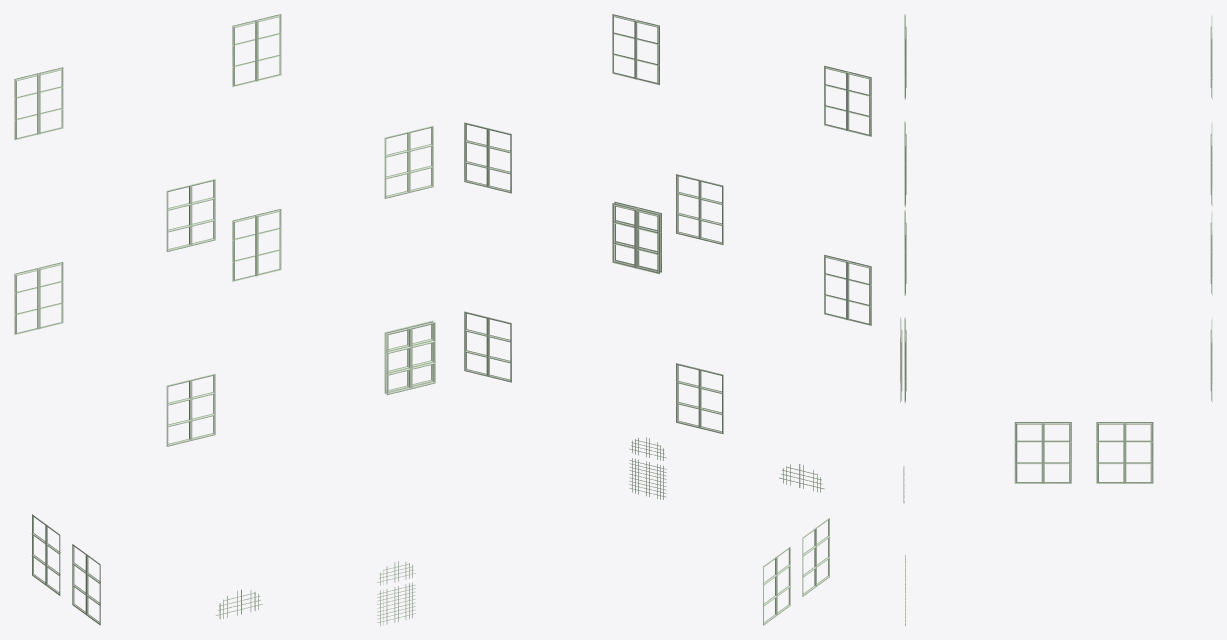
File: FairyTale121.gltf
3 views of the same model, side by side, from view 1: azimuth 30°, elevation 25°; view 2: azimuth 150°, elevation 25°; view 3: azimuth 270°, elevation 25° (orthographic). The views are drawn at different scales.
Visible parts, largest first — view 1: HouseLG04_Mullions_Wood; view 2: HouseLG04_Mullions_Wood; view 3: HouseLG04_Mullions_Wood.
Boxes of the visible parts, bbox=[...] form: HouseLG04_Mullions_Wood: bbox=[14, 14, 435, 625]; HouseLG04_Mullions_Wood: bbox=[464, 14, 871, 625]; HouseLG04_Mullions_Wood: bbox=[900, 14, 1212, 625].
Bounding box in the file's own units: 8.82 × 14.75 × 8.49.
